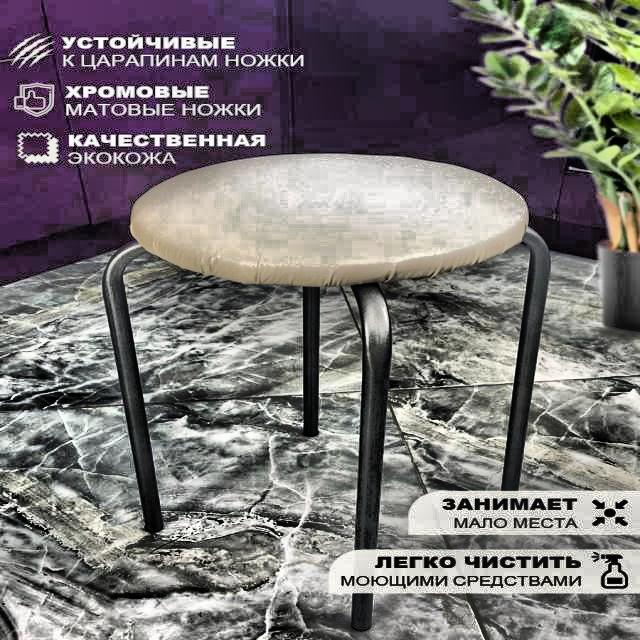cadeira: (96, 150, 556, 634)
